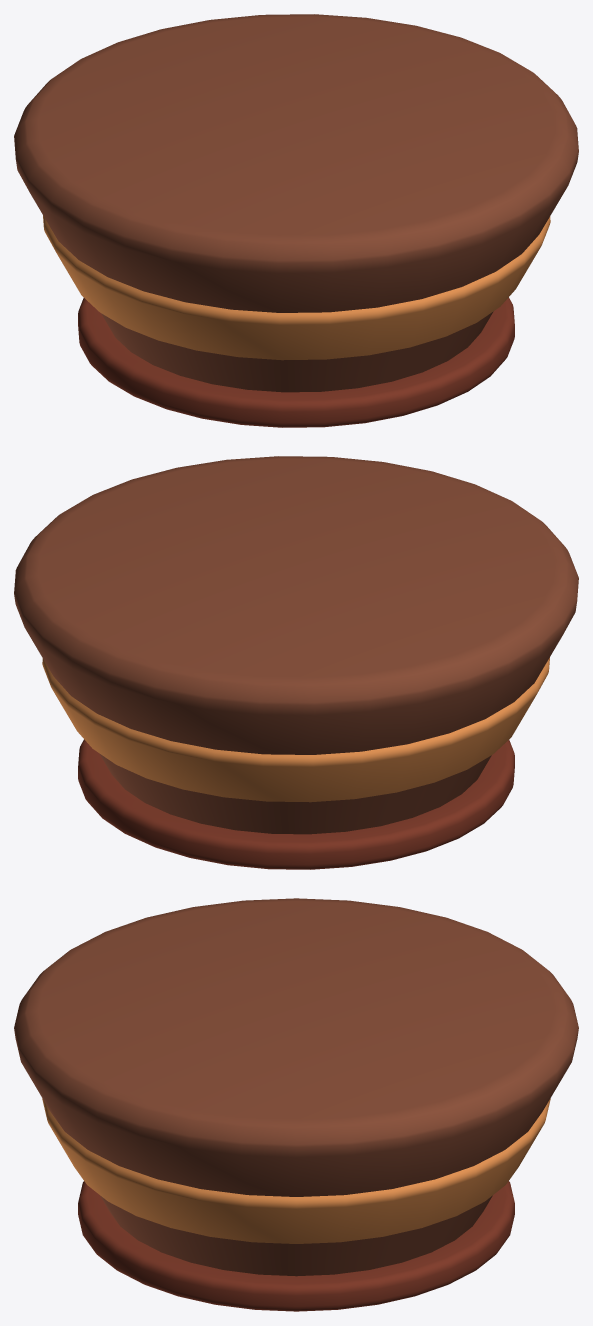
The model's file is tonbaligiMasa.fbx.
3 views of the same model, one above another, from view 1: azimuth 30°, elevation 25°; view 2: azimuth 150°, elevation 25°; view 3: azimuth 270°, elevation 25° (orthographic).
Parts seen in each view (by area): view 1: tonbaligiMasa; view 2: tonbaligiMasa; view 3: tonbaligiMasa.
Boxes of the visible parts, left/top/right/bottom form: tonbaligiMasa: left=14, top=14, right=578, bottom=427; tonbaligiMasa: left=14, top=456, right=578, bottom=869; tonbaligiMasa: left=14, top=898, right=578, bottom=1311.
Size of the model in its own units: 217 by 89.62 by 217.
